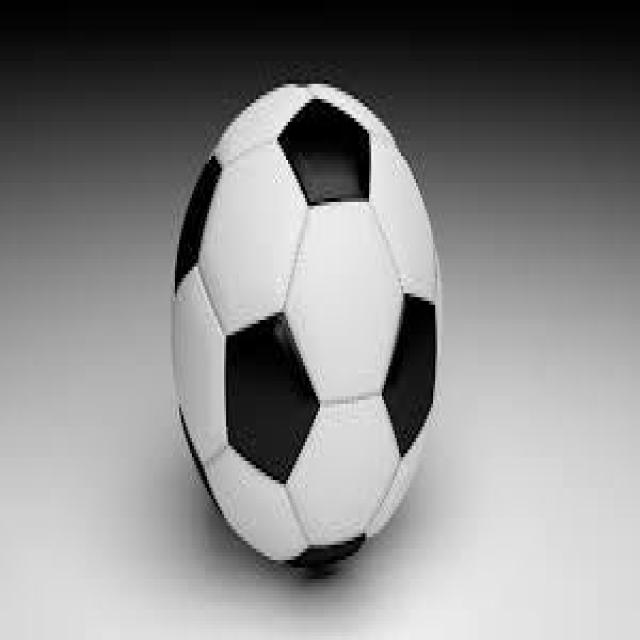Soccer Ball: (173, 88, 437, 579)
